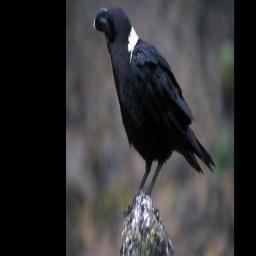Crow: (93, 5, 217, 221)
